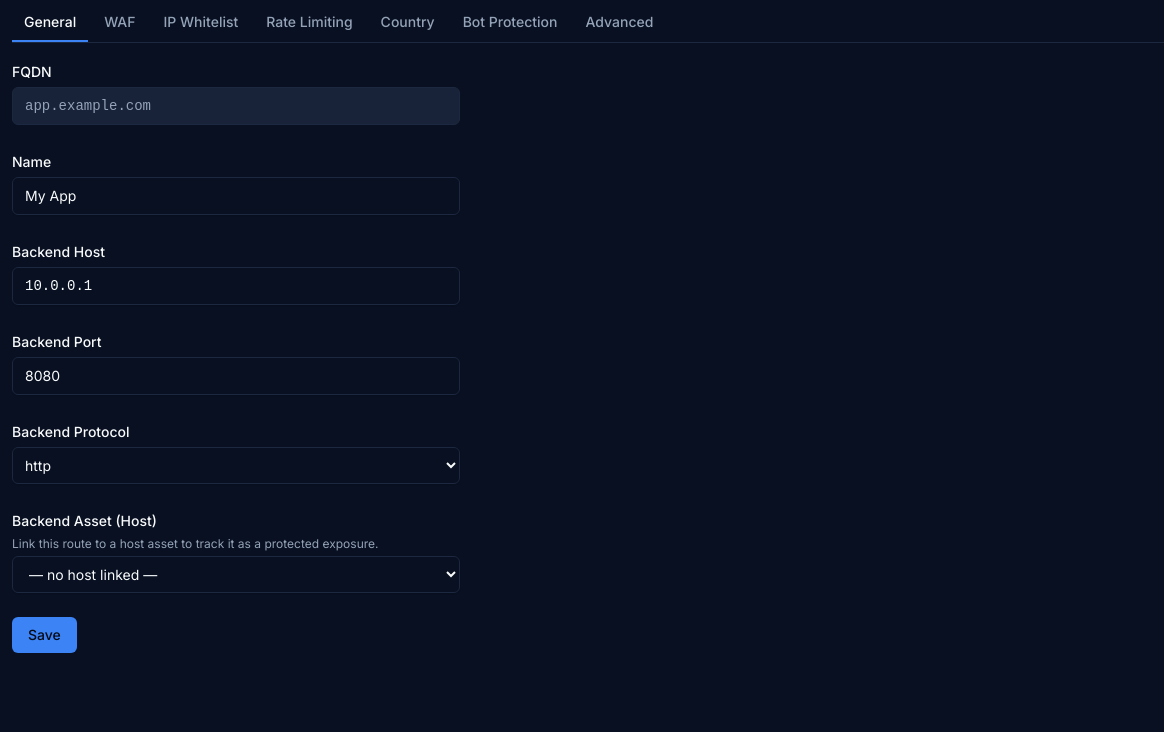
Test case: IpWhitelistTab › loads existing IPs as chips
expect the text "app.example.com" is shown: met, box [12, 87, 460, 125]
Click the button with test id "subtab-ip-whitelist" at {"x": 201, "y": 27}, box [152, 12, 250, 42]
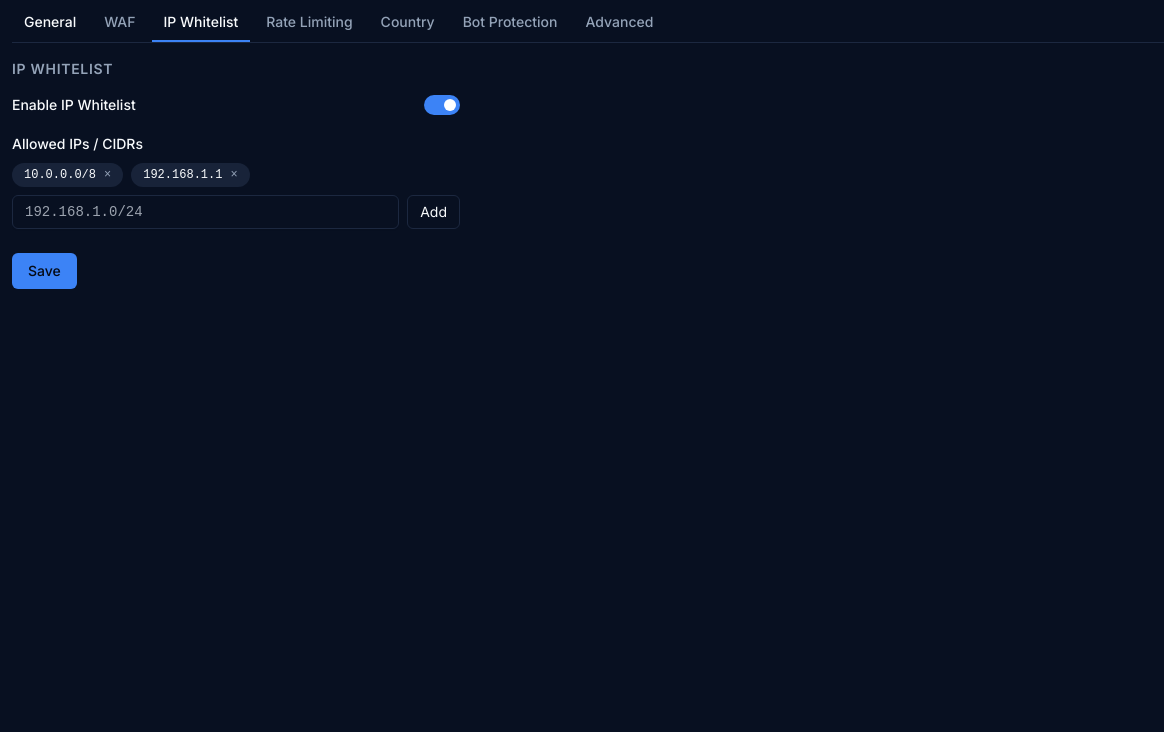
expect the element with test id "ip-chip-list" is shown: met, box [12, 163, 250, 187]
expect the element with test id "ip-chip-0" shows "10.0.0.0/8": met, box [24, 168, 96, 182]
expect the element with test id "ip-chip-1" shows "192.168.1.1": met, box [143, 168, 222, 182]
